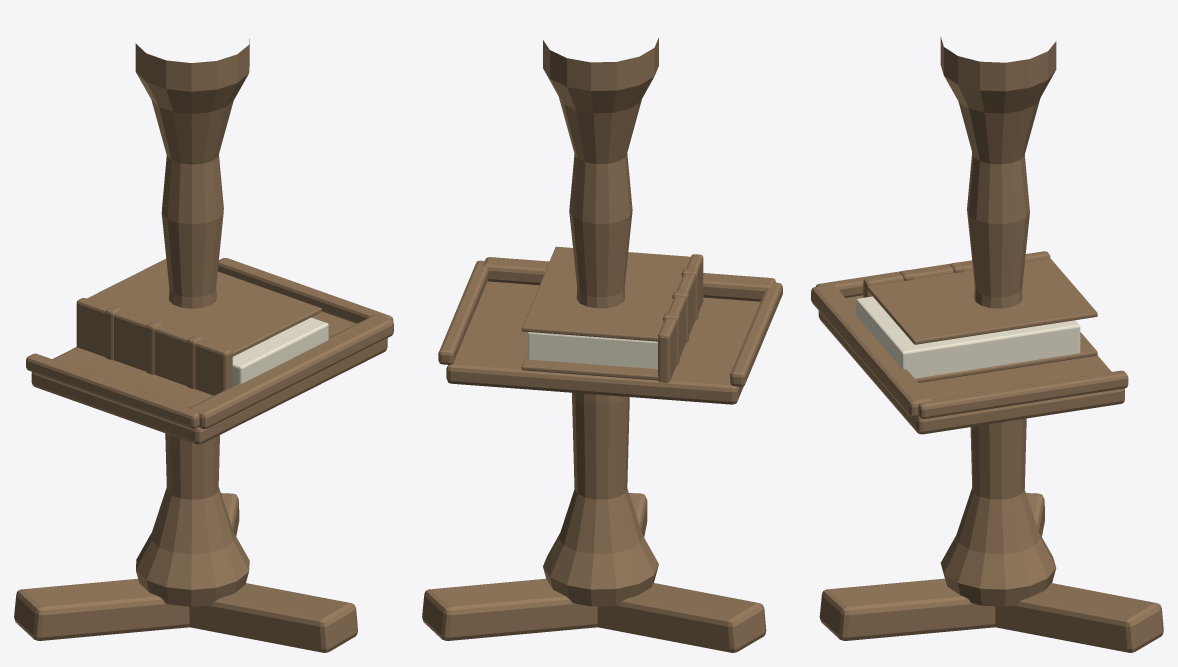
File: monastery_reading_lectern.glb
3 views of the same model, side by side, from view 1: azimuth 30°, elevation 25°; view 2: azimuth 150°, elevation 25°; view 3: azimuth 270°, elevation 25° (orthographic).
Parts seen in each view (by area): view 1: world; view 2: world; view 3: world.
Boxes of the visible parts, x1,y1,x2,y2 form: world: (14, 38, 393, 652); world: (422, 37, 782, 652); world: (811, 37, 1163, 652).
Bounding box in the file's own units: 1.17 × 2 × 1.11.
